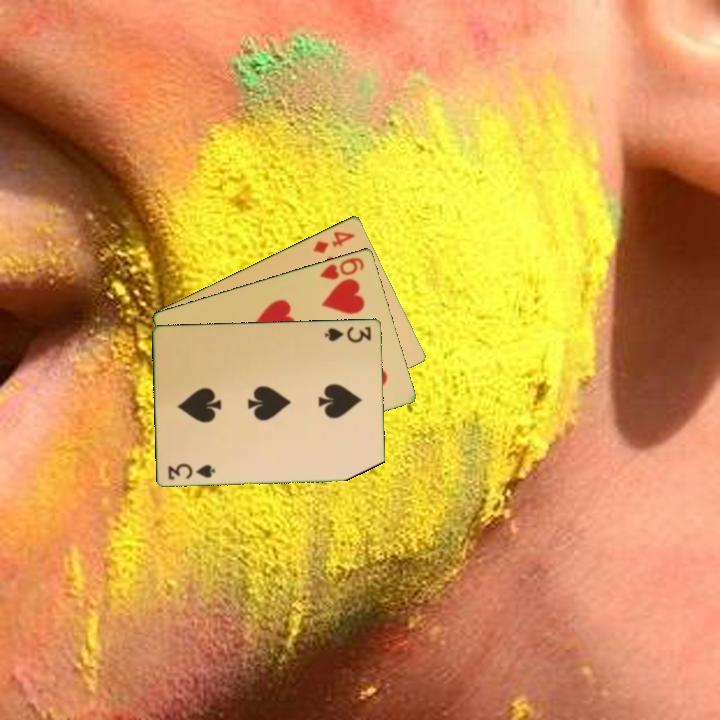3s: (321, 322, 374, 345), (165, 459, 218, 482)
4d: (310, 227, 358, 256)
6h: (316, 253, 367, 282)
